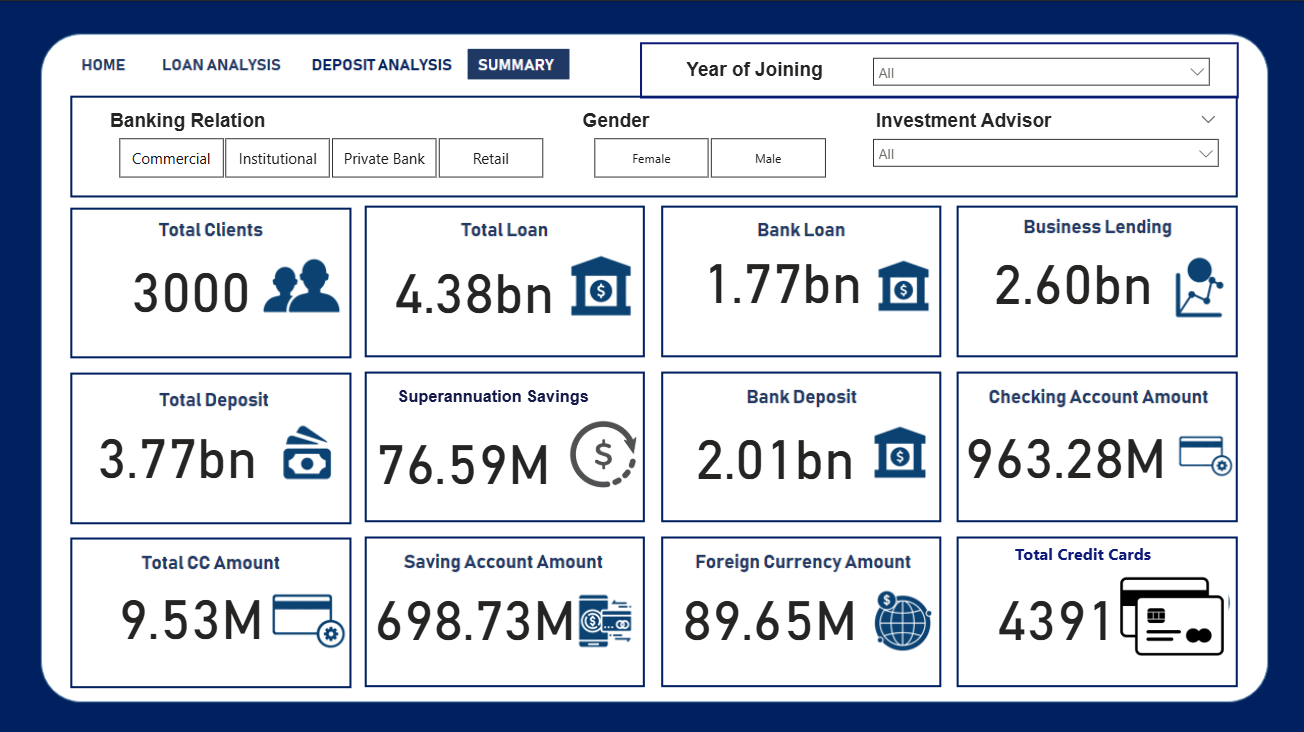

This screenshot's page, from the dashboard's own definition file:
{"tool":"powerbi","page":{"name":"Summary","canvas":[1280,720],"ordinal":3},"visuals":[{"type":"actionButton","box":[66.3,45.4,73.6,34.4],"z":0},{"type":"actionButton","box":[149.7,45.4,132.5,34.4],"z":1000},{"type":"actionButton","box":[295.7,45.4,155.8,34.4],"z":2000},{"type":"slicer","fields":{"Values":["banking_case customer.Year of Joining"]},"box":[846.6,45.4,350.9,46.6],"z":3000},{"type":"textbox","box":[668.7,51.5,154.6,35.6],"z":4000},{"type":"shape","box":[640.5,36.8,575.5,55.2],"z":5000},{"type":"slicer","fields":{"Values":["banking_case customer.BRId"]},"box":[90.8,127.6,466.3,52.8],"z":6000},{"type":"slicer","fields":{"Values":["banking_case customer.GenderId"]},"box":[557.1,127.6,277.3,52.8],"z":7000},{"type":"slicer","fields":{"Values":["banking_case customer.IAId"]},"box":[846.6,101.8,359.5,88.3],"z":8000},{"type":"textbox","box":[566.9,101.8,147.2,35.6],"z":9000},{"type":"textbox","box":[103.1,101.8,168.1,34.4],"z":10000},{"type":"card","fields":{"Values":["CountNonNull(banking_case customer.Client ID)"]},"box":[79.8,222.1,216,114.1],"z":11000},{"type":"card","fields":{"Values":["banking_case customer.Total Loan"]},"box":[385.3,204.9,171.8,150.9],"z":12000},{"type":"card","fields":{"Values":["Sum(banking_case customer.Bank Loans)"]},"box":[652.8,213.5,230.7,114.1],"z":13000},{"type":"card","fields":{"Values":["Sum(banking_case customer.Business Lending)"]},"box":[928.8,196.3,249.1,149.7],"z":14000},{"type":"card","fields":{"Values":["banking_case customer.Total Deposit"]},"box":[66.3,380.4,216,123.9],"z":15000},{"type":"card","fields":{"Values":["Sum(banking_case customer.Bank Deposits)"]},"box":[652.8,368.1,216,149.7],"z":16000},{"type":"card","fields":{"Values":["Sum(banking_case customer.Checking Accounts)"]},"box":[946,387.7,217.2,109.2],"z":17000},{"type":"card","fields":{"Values":["Sum(banking_case customer.Credit Card Balance)"]},"box":[79.8,557.1,216,87.1],"z":18000},{"type":"card","fields":{"Values":["Sum(banking_case customer.Foreign Currency Account)"]},"box":[640.5,548.5,230.7,105.5],"z":19000},{"type":"card","fields":{"Values":["Sum(banking_case customer.Saving Accounts)"]},"box":[362,526.4,214.7,149.7],"z":20000},{"type":"shape","box":[411,380.4,217.2,116.6],"z":21000},{"type":"image","box":[494.5,391.4,163.2,112.9],"z":22000},{"type":"shape","box":[980.4,537.4,225.8,126.4],"z":22001},{"type":"textbox","box":[385.3,374.2,224.5,28.2],"z":22002},{"type":"card","fields":{"Values":["Sum(banking_case customer.Superannuation Savings)"]},"box":[342.3,398.8,224.5,99.4],"z":22003},{"type":"card","fields":{"Values":["banking_case customer.No of credit cards"]},"box":[928.8,548.5,217.2,106.7],"z":22004},{"type":"image","box":[1093.3,548.5,114.1,111.7],"z":22005},{"type":"textbox","box":[991.4,526.4,171.8,38],"z":22006}]}

Visuals, with their boxes in screenshot pixels (x1, y1, x2, y2), scaled from the page's 1280x720 canvas onto the 1304x732 screenshot:
actionButton: [68,46,143,81]
actionButton: [153,46,287,81]
actionButton: [301,46,460,81]
slicer - banking_case customer.Year of Joining: [862,46,1220,94]
textbox: [681,52,839,89]
shape: [653,37,1239,94]
slicer - banking_case customer.BRId: [93,130,568,183]
slicer - banking_case customer.GenderId: [568,130,850,183]
slicer - banking_case customer.IAId: [862,103,1229,193]
textbox: [578,103,727,140]
textbox: [105,103,276,138]
card - CountNonNull(banking_case customer.Client ID): [81,226,301,342]
card - banking_case customer.Total Loan: [393,208,568,362]
card - Sum(banking_case customer.Bank Loans): [665,217,900,333]
card - Sum(banking_case customer.Business Lending): [946,200,1200,352]
card - banking_case customer.Total Deposit: [68,387,288,513]
card - Sum(banking_case customer.Bank Deposits): [665,374,885,526]
card - Sum(banking_case customer.Checking Accounts): [964,394,1185,505]
card - Sum(banking_case customer.Credit Card Balance): [81,566,301,655]
card - Sum(banking_case customer.Foreign Currency Account): [653,558,888,665]
card - Sum(banking_case customer.Saving Accounts): [369,535,588,687]
shape: [419,387,640,505]
image: [504,398,670,513]
shape: [999,546,1229,675]
textbox: [393,380,621,409]
card - Sum(banking_case customer.Superannuation Savings): [349,405,577,507]
card - banking_case customer.No of credit cards: [946,558,1167,666]
image: [1114,558,1230,671]
textbox: [1010,535,1185,574]
